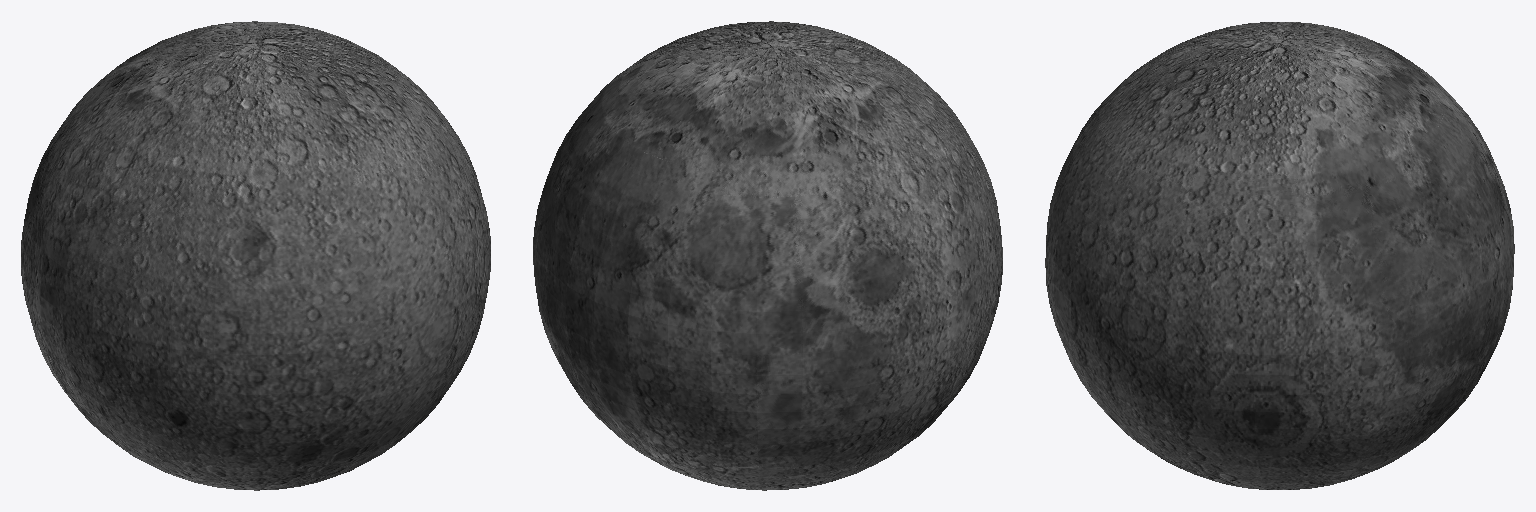
The picture shows the model from 3 angles: view 1: azimuth 30°, elevation 25°; view 2: azimuth 150°, elevation 25°; view 3: azimuth 270°, elevation 25°; orthographic projection.
Visible parts, largest first — view 1: Moon.001_Sphere.012; view 2: Moon.001_Sphere.012; view 3: Moon.001_Sphere.012.
Boxes of the visible parts, box(x1,y1,x2,y2) form: Moon.001_Sphere.012: box(21, 21, 490, 490); Moon.001_Sphere.012: box(533, 21, 1002, 490); Moon.001_Sphere.012: box(1045, 22, 1514, 489).
Size of the model in its own units: 1.74 by 1.74 by 1.74.
1 materials, 1 textured.